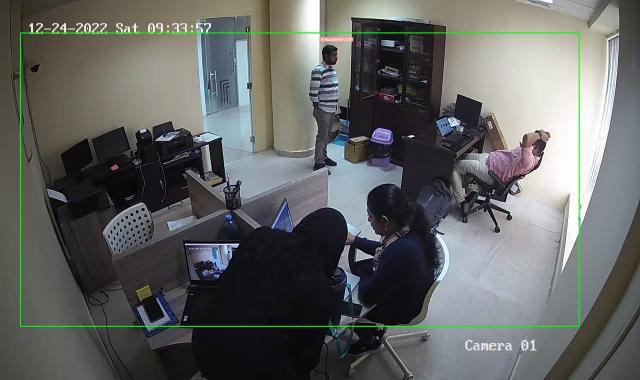no_hairnet: (367, 184, 407, 234), (311, 207, 347, 257), (322, 44, 338, 66)
